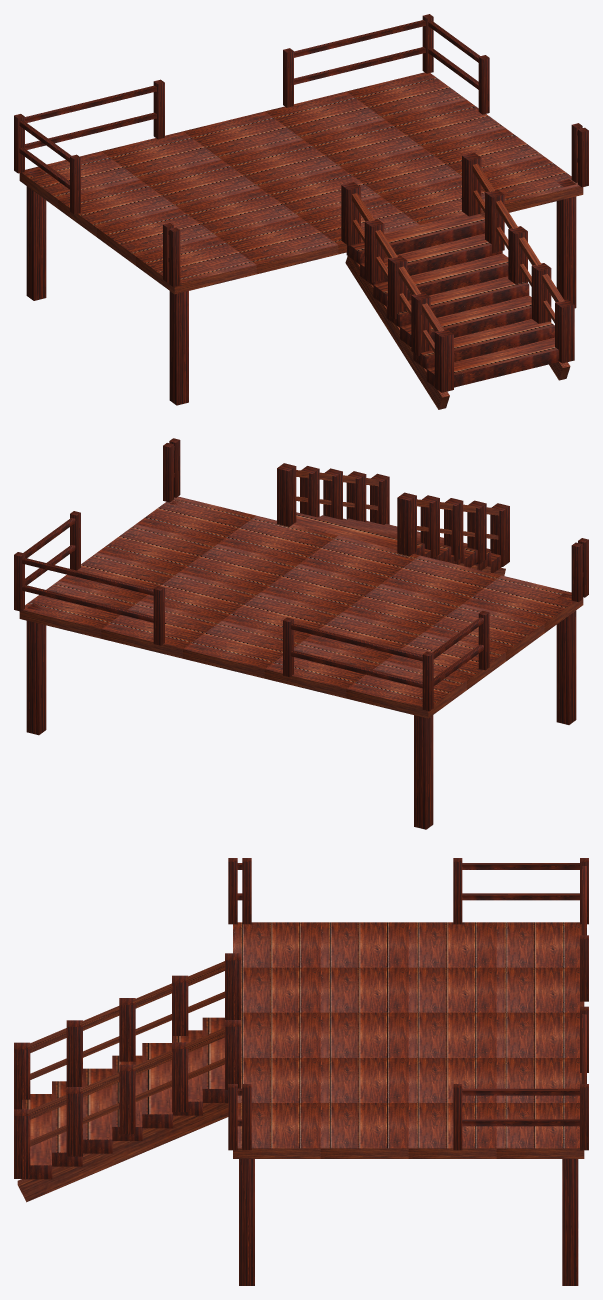
Rendered from SingleStareBase_LOD2.fbx.
3 renders of one model, top to bottom at view 1: azimuth 30°, elevation 25°; view 2: azimuth 150°, elevation 25°; view 3: azimuth 270°, elevation 25°, orthographic. The views are drawn at different scales.
Parts seen in each view (by area): view 1: Retopo_SingleStareBase_LOD2.001; view 2: Retopo_SingleStareBase_LOD2.001; view 3: Retopo_SingleStareBase_LOD2.001.
Part boxes in pixels (<box>): Retopo_SingleStareBase_LOD2.001: <box>14,14,588,409</box>; Retopo_SingleStareBase_LOD2.001: <box>14,438,588,829</box>; Retopo_SingleStareBase_LOD2.001: <box>14,858,588,1285</box>.
Size of the model in its own units: 773 by 319 by 818.
